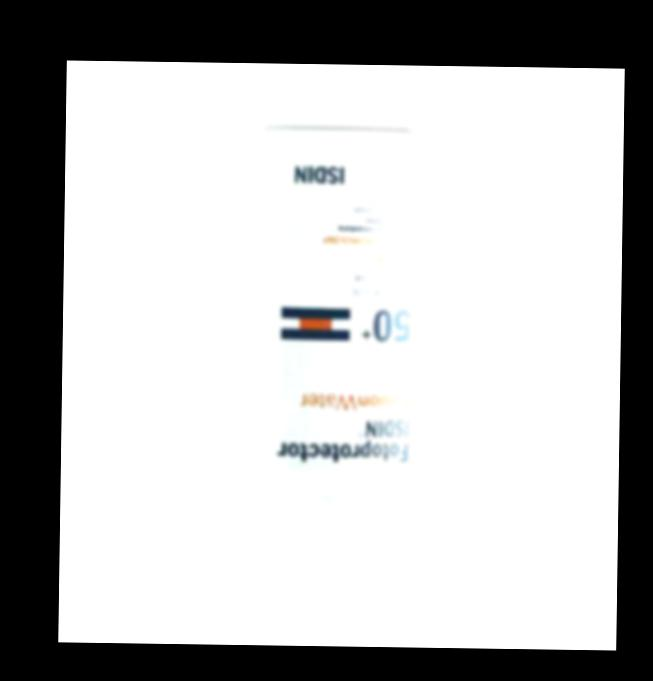cosmetic: (235, 123, 431, 592)
